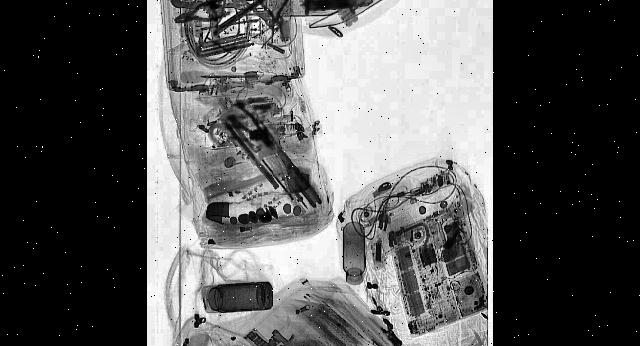Pliers: (174, 0, 229, 30), (169, 0, 233, 9)
